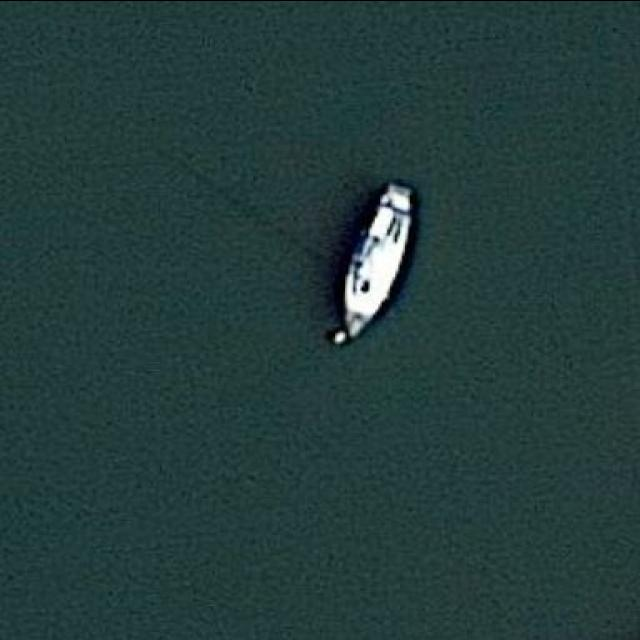ship: (338, 176, 416, 349)
